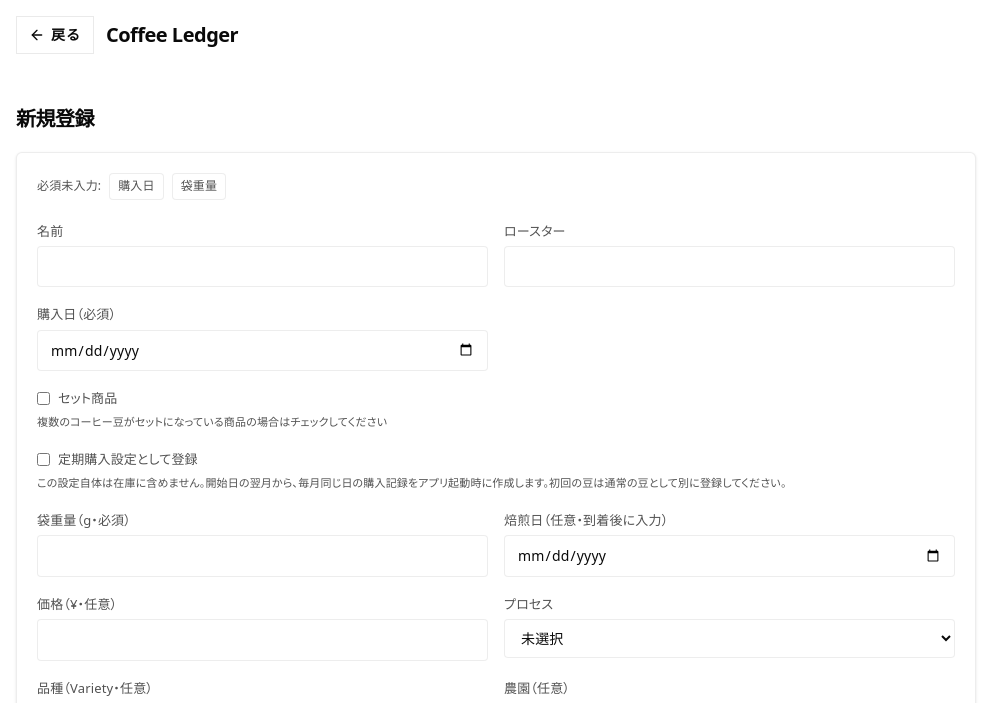
Test case: NewBagPage › should handle custom process input
Select "その他（手入力）" in the dropdown labelled "プロセス" at (730, 638), box [504,619,955,658]
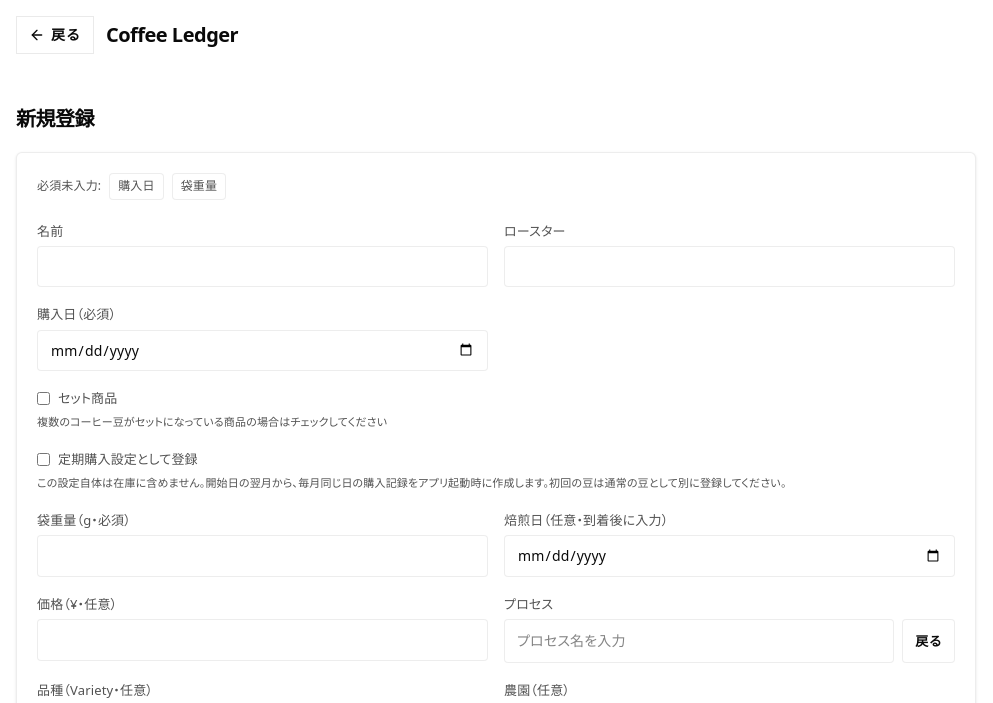
Check: the field with placeholder "プロセス名を入力" is shown, box [504,619,894,663]
# Click the process back button (second one)
Click the button "戻る" below "焙煎日（任意・到着後に入力）" at (929, 641), box [902,619,955,663]
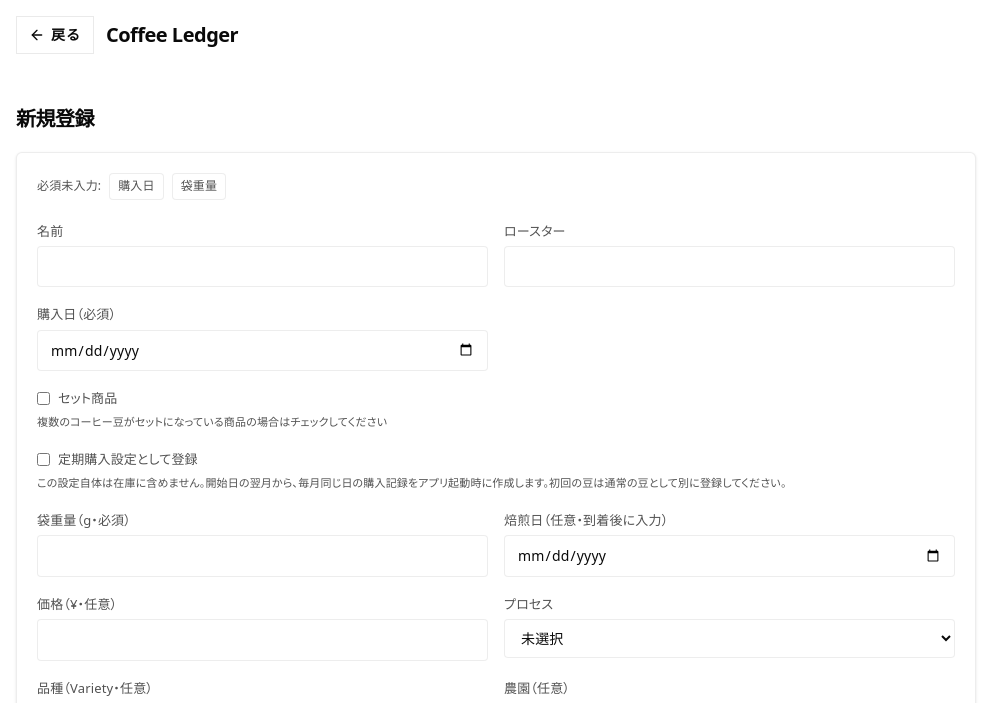
Check: the field with placeholder "プロセス名を入力" is gone
Check: the dropdown labelled "プロセス" is shown, box [504,619,955,658]
